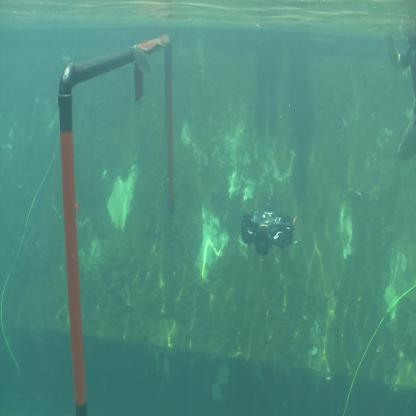gate: (55, 31, 181, 407)
